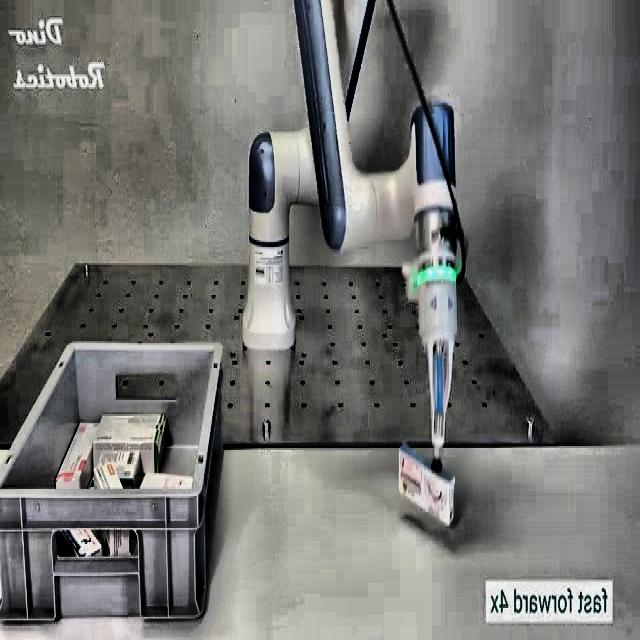robot: (242, 0, 467, 524)
